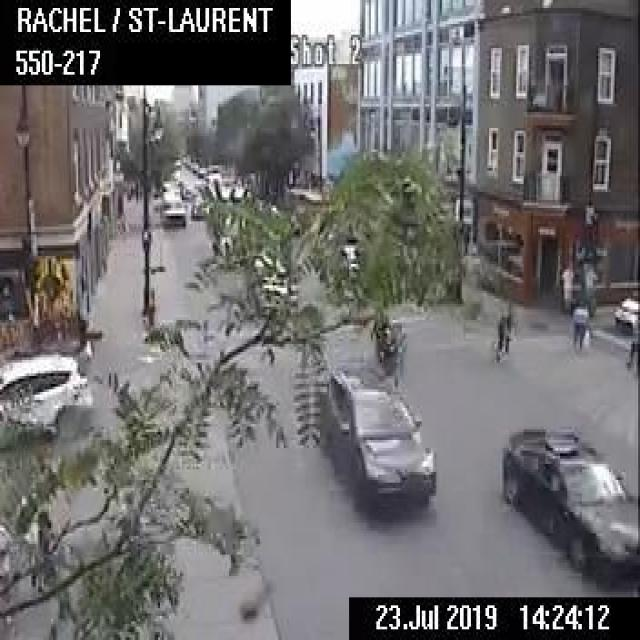cyclist: (490, 302, 511, 362)
pedestrian: (570, 302, 590, 352), (626, 312, 638, 371), (559, 262, 572, 310)
vehicle: (500, 427, 638, 573), (316, 364, 433, 510), (0, 349, 93, 451), (247, 252, 295, 314), (369, 304, 405, 377), (613, 288, 638, 331), (156, 193, 182, 224), (190, 194, 213, 220)
